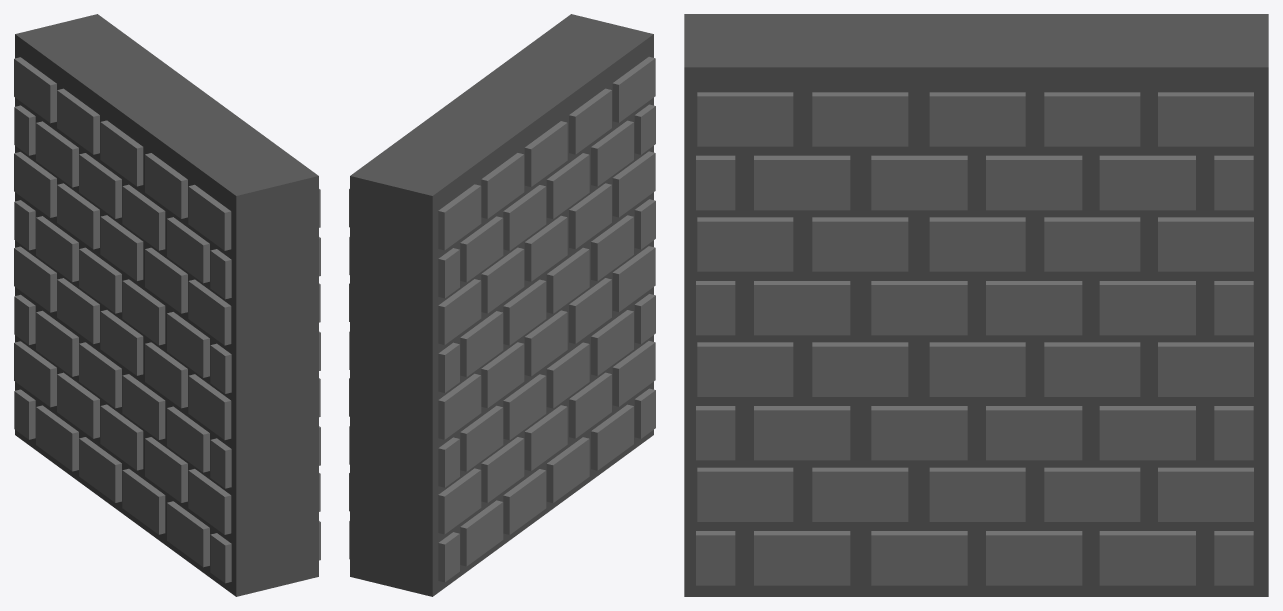
The model's file is wall.fbx.
3 views of the same model, side by side, from view 1: azimuth 30°, elevation 25°; view 2: azimuth 150°, elevation 25°; view 3: azimuth 270°, elevation 25° (orthographic). The views are drawn at different scales.
Visible parts, largest first — view 1: wall; view 2: wall; view 3: wall.
Boxes of the visible parts, left/top/right/bottom form: wall: left=14, top=14, right=320, bottom=596; wall: left=349, top=14, right=655, bottom=596; wall: left=684, top=14, right=1268, bottom=596.
Bounding box in the file's own units: 25 × 100 × 100.
